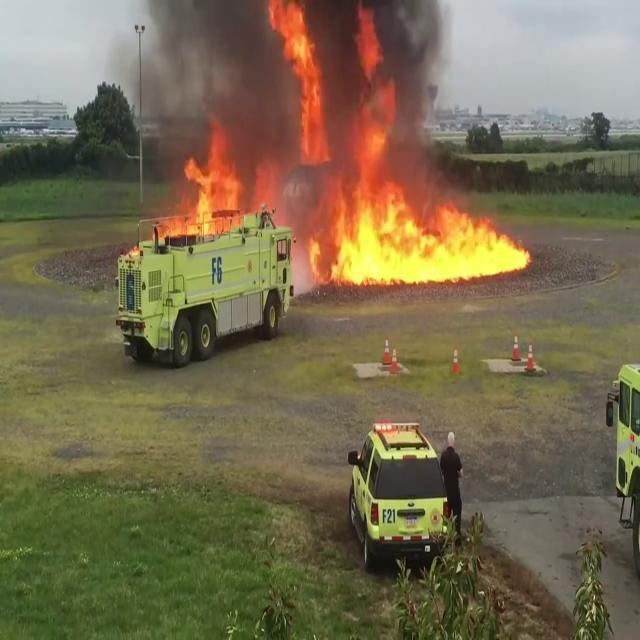Fire: (156, 98, 530, 296)
Smoke: (130, 1, 473, 170)
